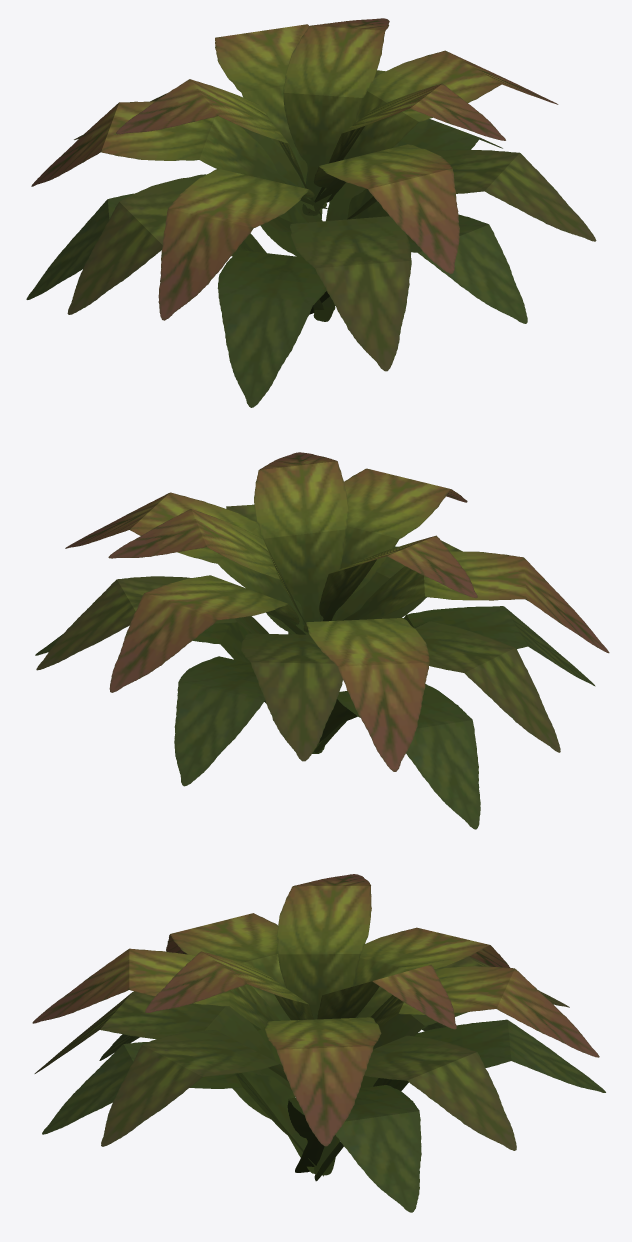
File: broadleaf_03.fbx
3 renders of one model, top to bottom at view 1: azimuth 30°, elevation 25°; view 2: azimuth 150°, elevation 25°; view 3: azimuth 270°, elevation 25°, orthographic.
Parts seen in each view (by area): view 1: obj0.076; view 2: obj0.076; view 3: obj0.076.
Boxes of the visible parts, x1,y1,x2,y2 form: obj0.076: (26, 18, 596, 407); obj0.076: (35, 452, 609, 829); obj0.076: (32, 874, 605, 1212).
Size of the model in its own units: 2.88 by 1.33 by 2.96.
